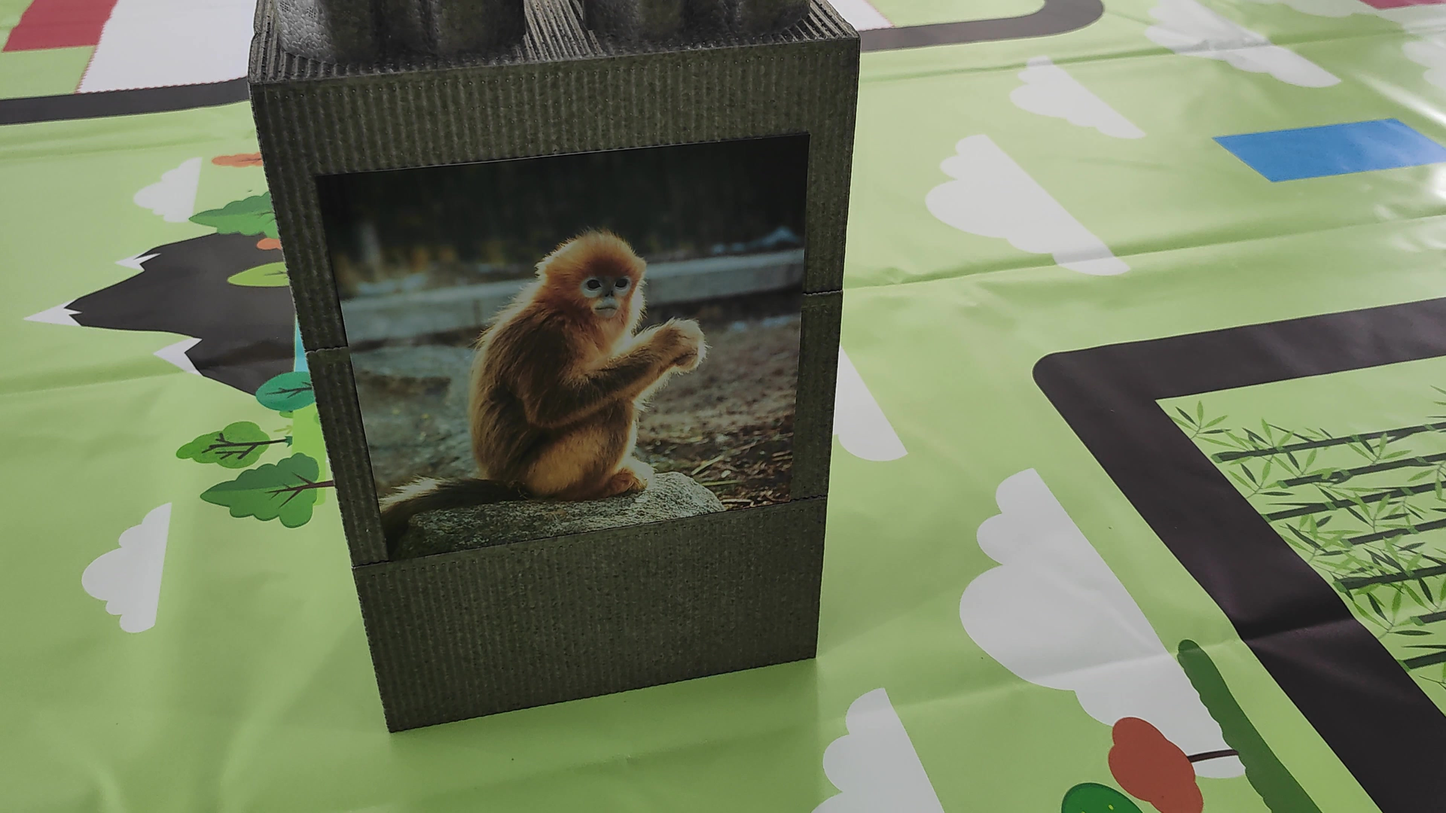monkey: (369, 199, 723, 538)
